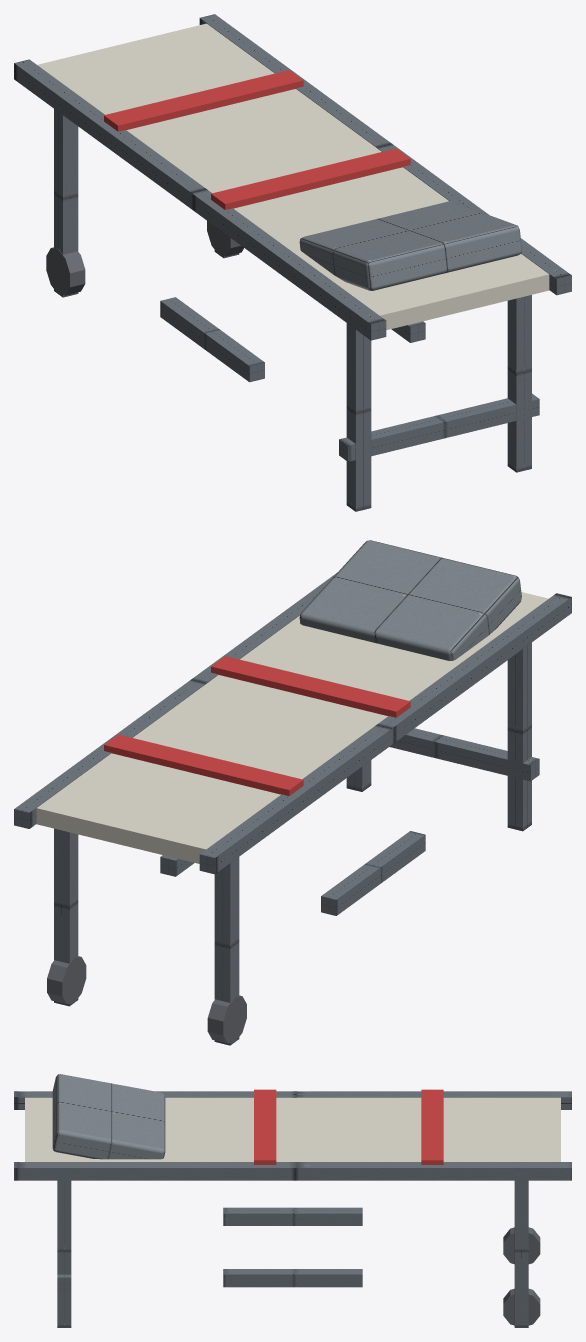
The model's file is fire-and-emergency-services-stretcher-629b477a__29925.glb.
3 views of the same model, one above another, from view 1: azimuth 30°, elevation 25°; view 2: azimuth 150°, elevation 25°; view 3: azimuth 270°, elevation 25° (orthographic). The views are drawn at different scales.
Visible parts, largest first — view 1: stretcher; view 2: stretcher; view 3: stretcher.
Part boxes in pixels (bbox=[...]): stretcher: bbox=[14, 14, 571, 511]; stretcher: bbox=[14, 540, 571, 1045]; stretcher: bbox=[14, 1074, 571, 1327].
Size of the model in its own units: 0.65 by 0.7609 by 2.
Materials: 5 (2 with a texture image).
